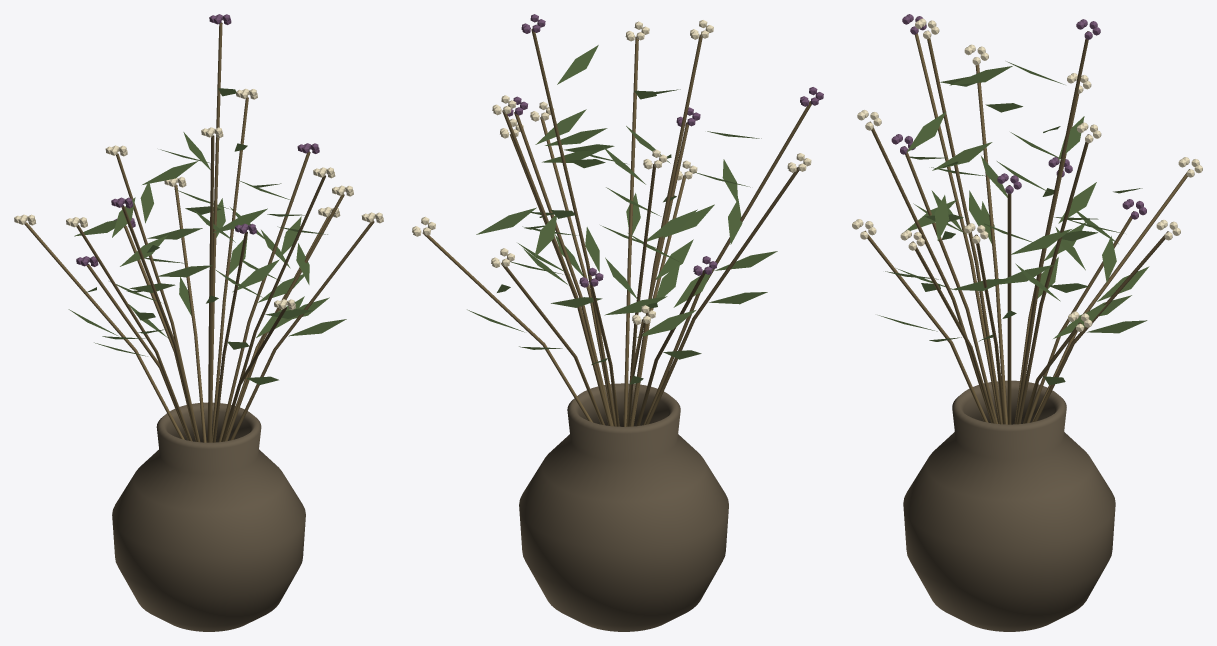
Rendered from flower_vase.glb.
The picture shows the model from 3 angles, left to right: view 1: azimuth 30°, elevation 25°; view 2: azimuth 150°, elevation 25°; view 3: azimuth 270°, elevation 25°; orthographic projection. The views are drawn at different scales.
Parts seen in each view (by area): view 1: AgedCeramicSurface, DryStemSurface, OliveLeafSurface, TinyWhiteFlowerSurface, DriedLavenderSurface; view 2: AgedCeramicSurface, DryStemSurface, OliveLeafSurface, TinyWhiteFlowerSurface, DriedLavenderSurface; view 3: AgedCeramicSurface, DryStemSurface, OliveLeafSurface, TinyWhiteFlowerSurface, DriedLavenderSurface.
Part boxes in pixels (left/top/right/bottom): AgedCeramicSurface: left=112, top=402, right=305, bottom=631; DryStemSurface: left=24, top=22, right=374, bottom=442; OliveLeafSurface: left=68, top=88, right=346, bottom=384; TinyWhiteFlowerSurface: left=14, top=88, right=383, bottom=309; DriedLavenderSurface: left=76, top=14, right=319, bottom=266; AgedCeramicSurface: left=519, top=383, right=728, bottom=631; DryStemSurface: left=422, top=29, right=811, bottom=426; OliveLeafSurface: left=467, top=45, right=777, bottom=384; TinyWhiteFlowerSurface: left=412, top=20, right=811, bottom=324; DriedLavenderSurface: left=507, top=14, right=823, bottom=287; AgedCeramicSurface: left=903, top=380, right=1115, bottom=631; DryStemSurface: left=864, top=30, right=1189, bottom=424; OliveLeafSurface: left=878, top=61, right=1149, bottom=385; TinyWhiteFlowerSurface: left=852, top=18, right=1202, bottom=331; DriedLavenderSurface: left=891, top=14, right=1146, bottom=219.
Bounding box in the file's own units: 0.3791 × 0.6391 × 0.3303.
